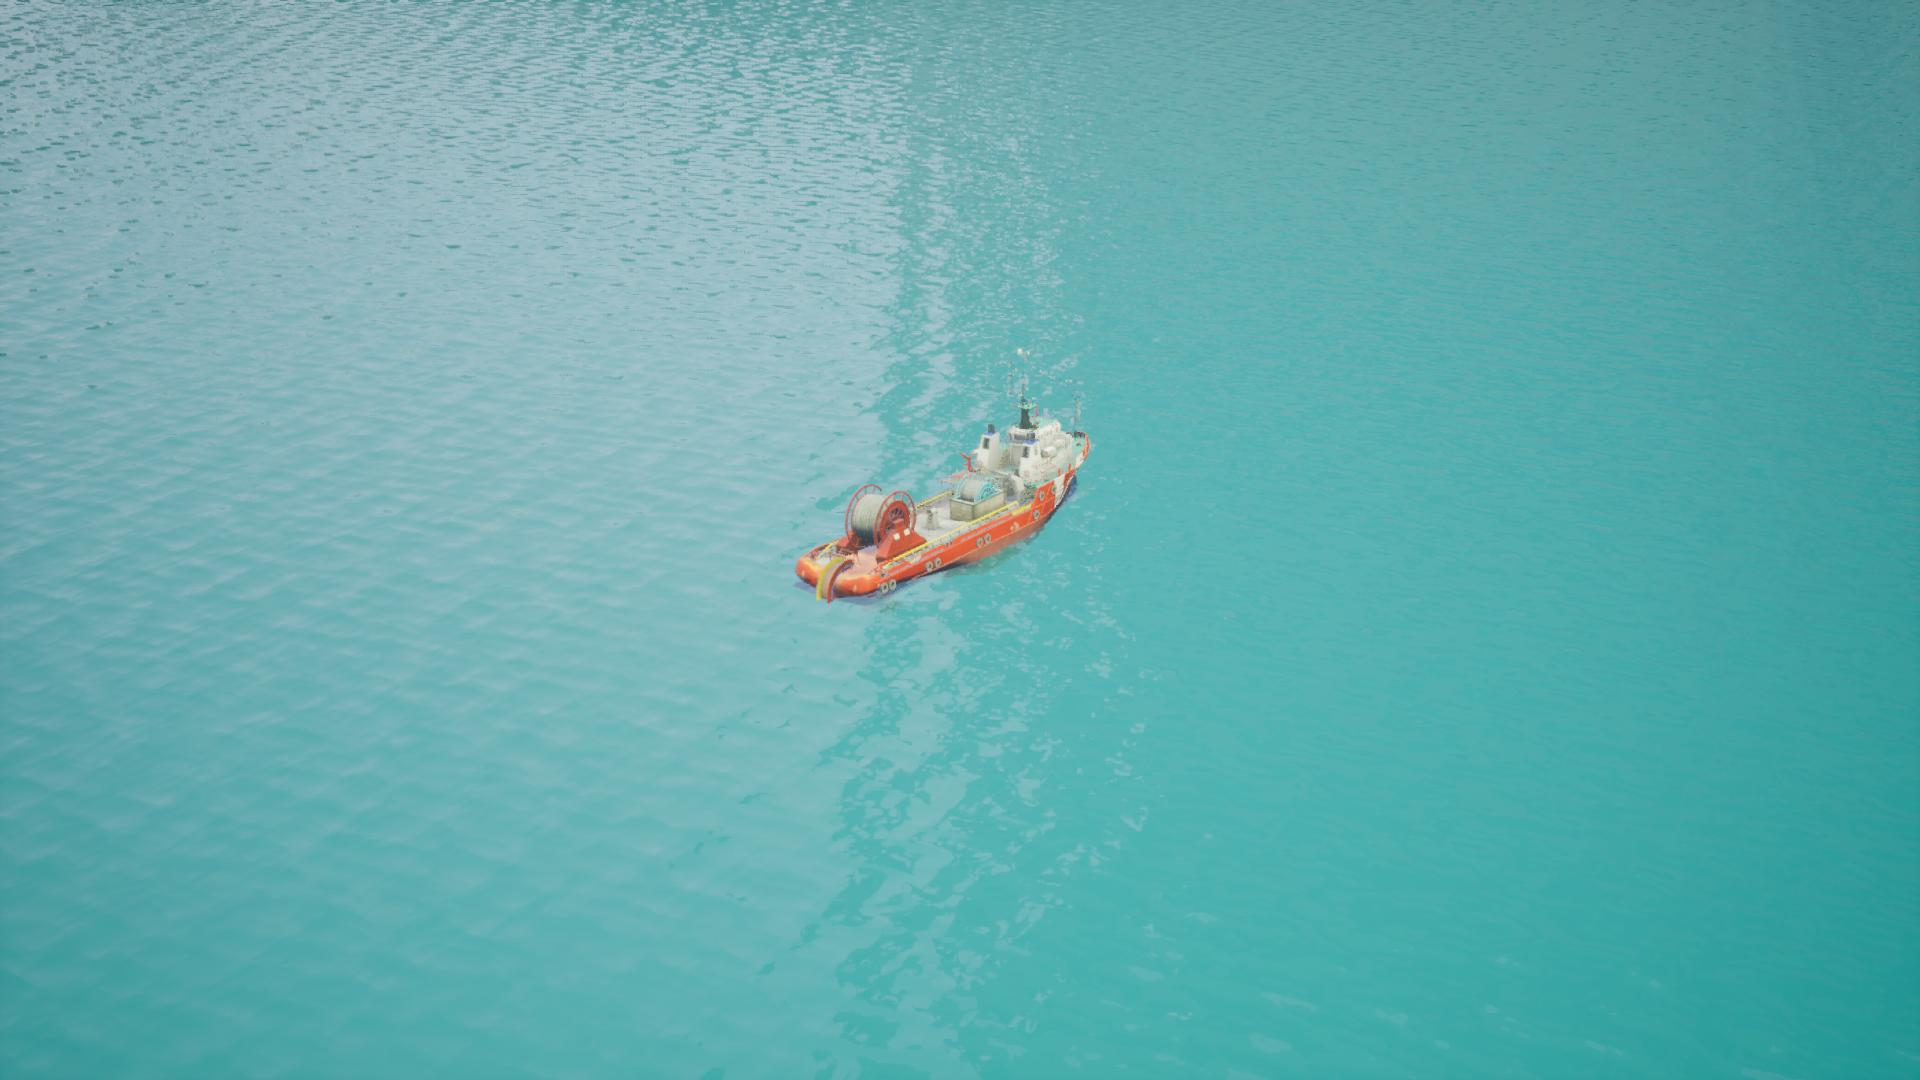Tug Boat: (810, 417, 1093, 604)
